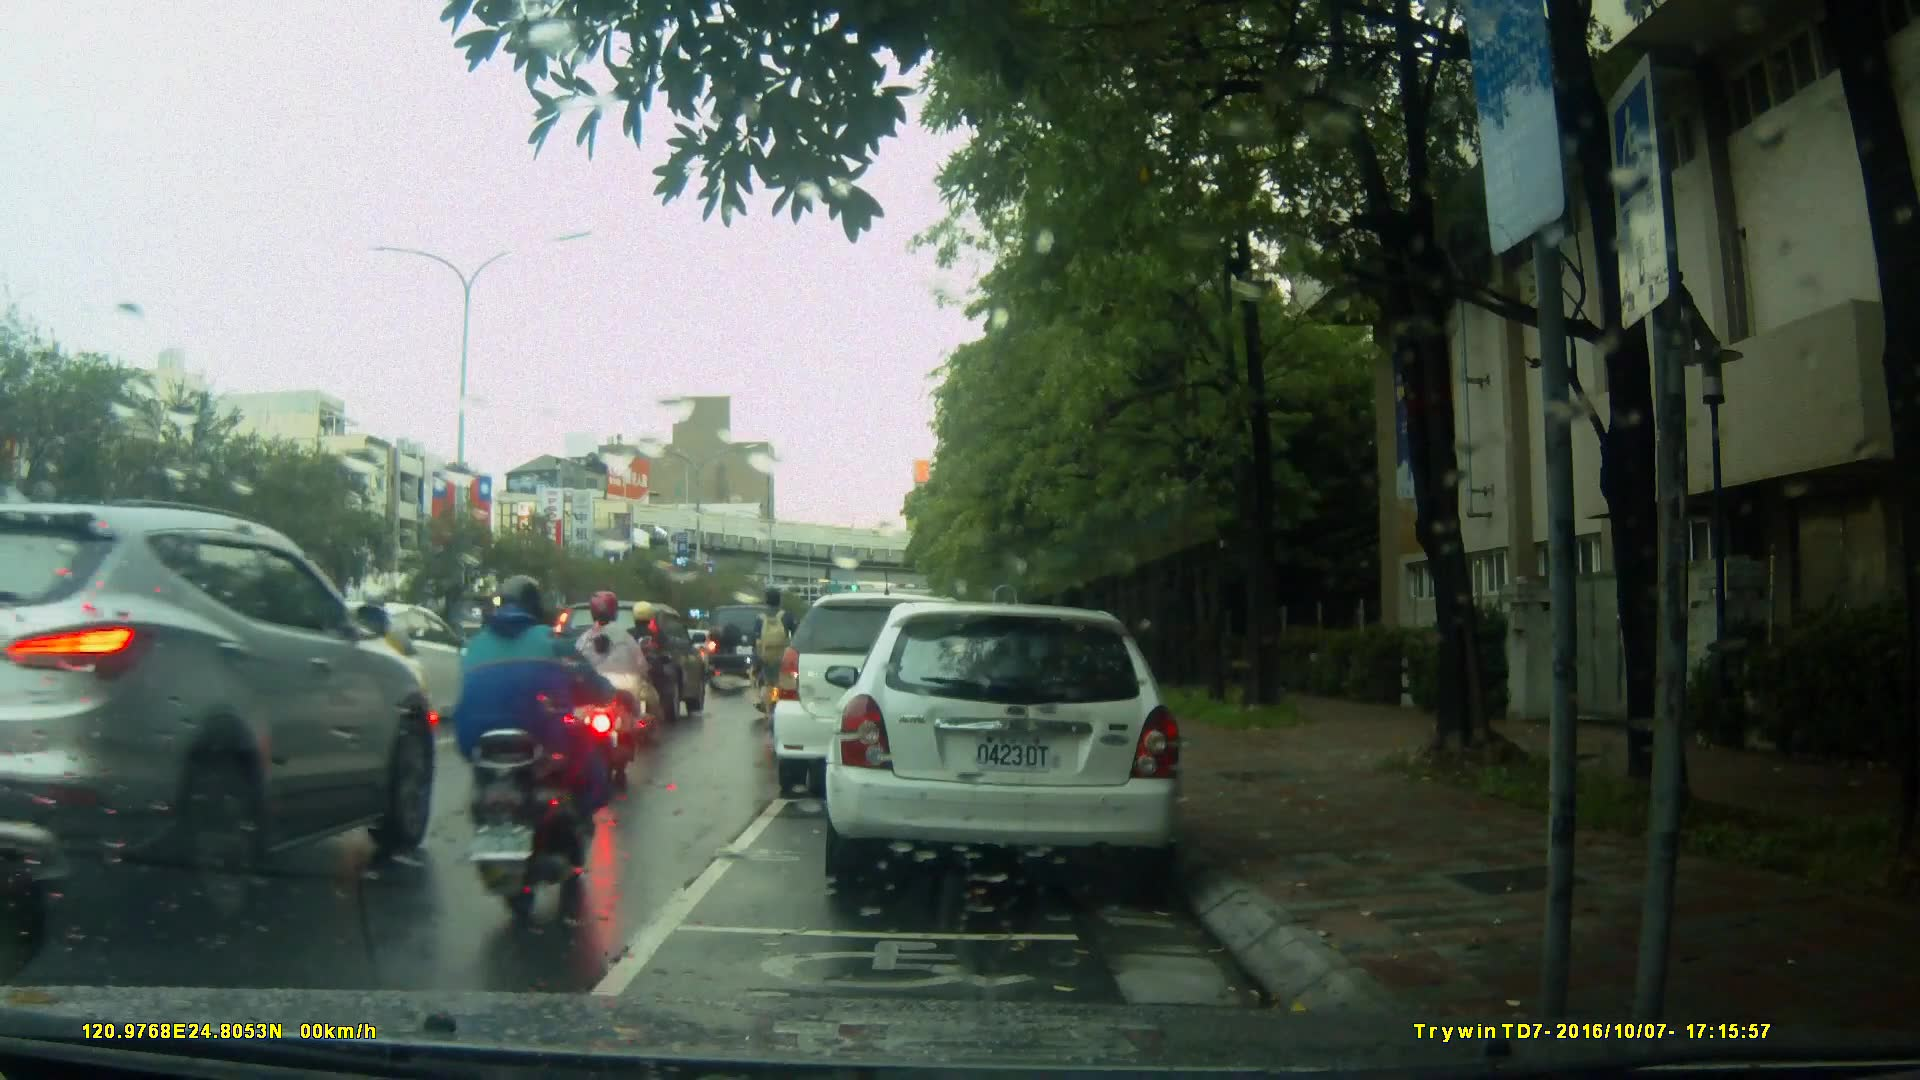rider: (457, 570, 598, 923), (574, 590, 649, 798), (335, 582, 418, 769), (619, 605, 685, 748), (748, 587, 800, 747)
vehicle: (1, 496, 440, 935), (822, 604, 1188, 883), (774, 595, 995, 802), (549, 596, 714, 725)
